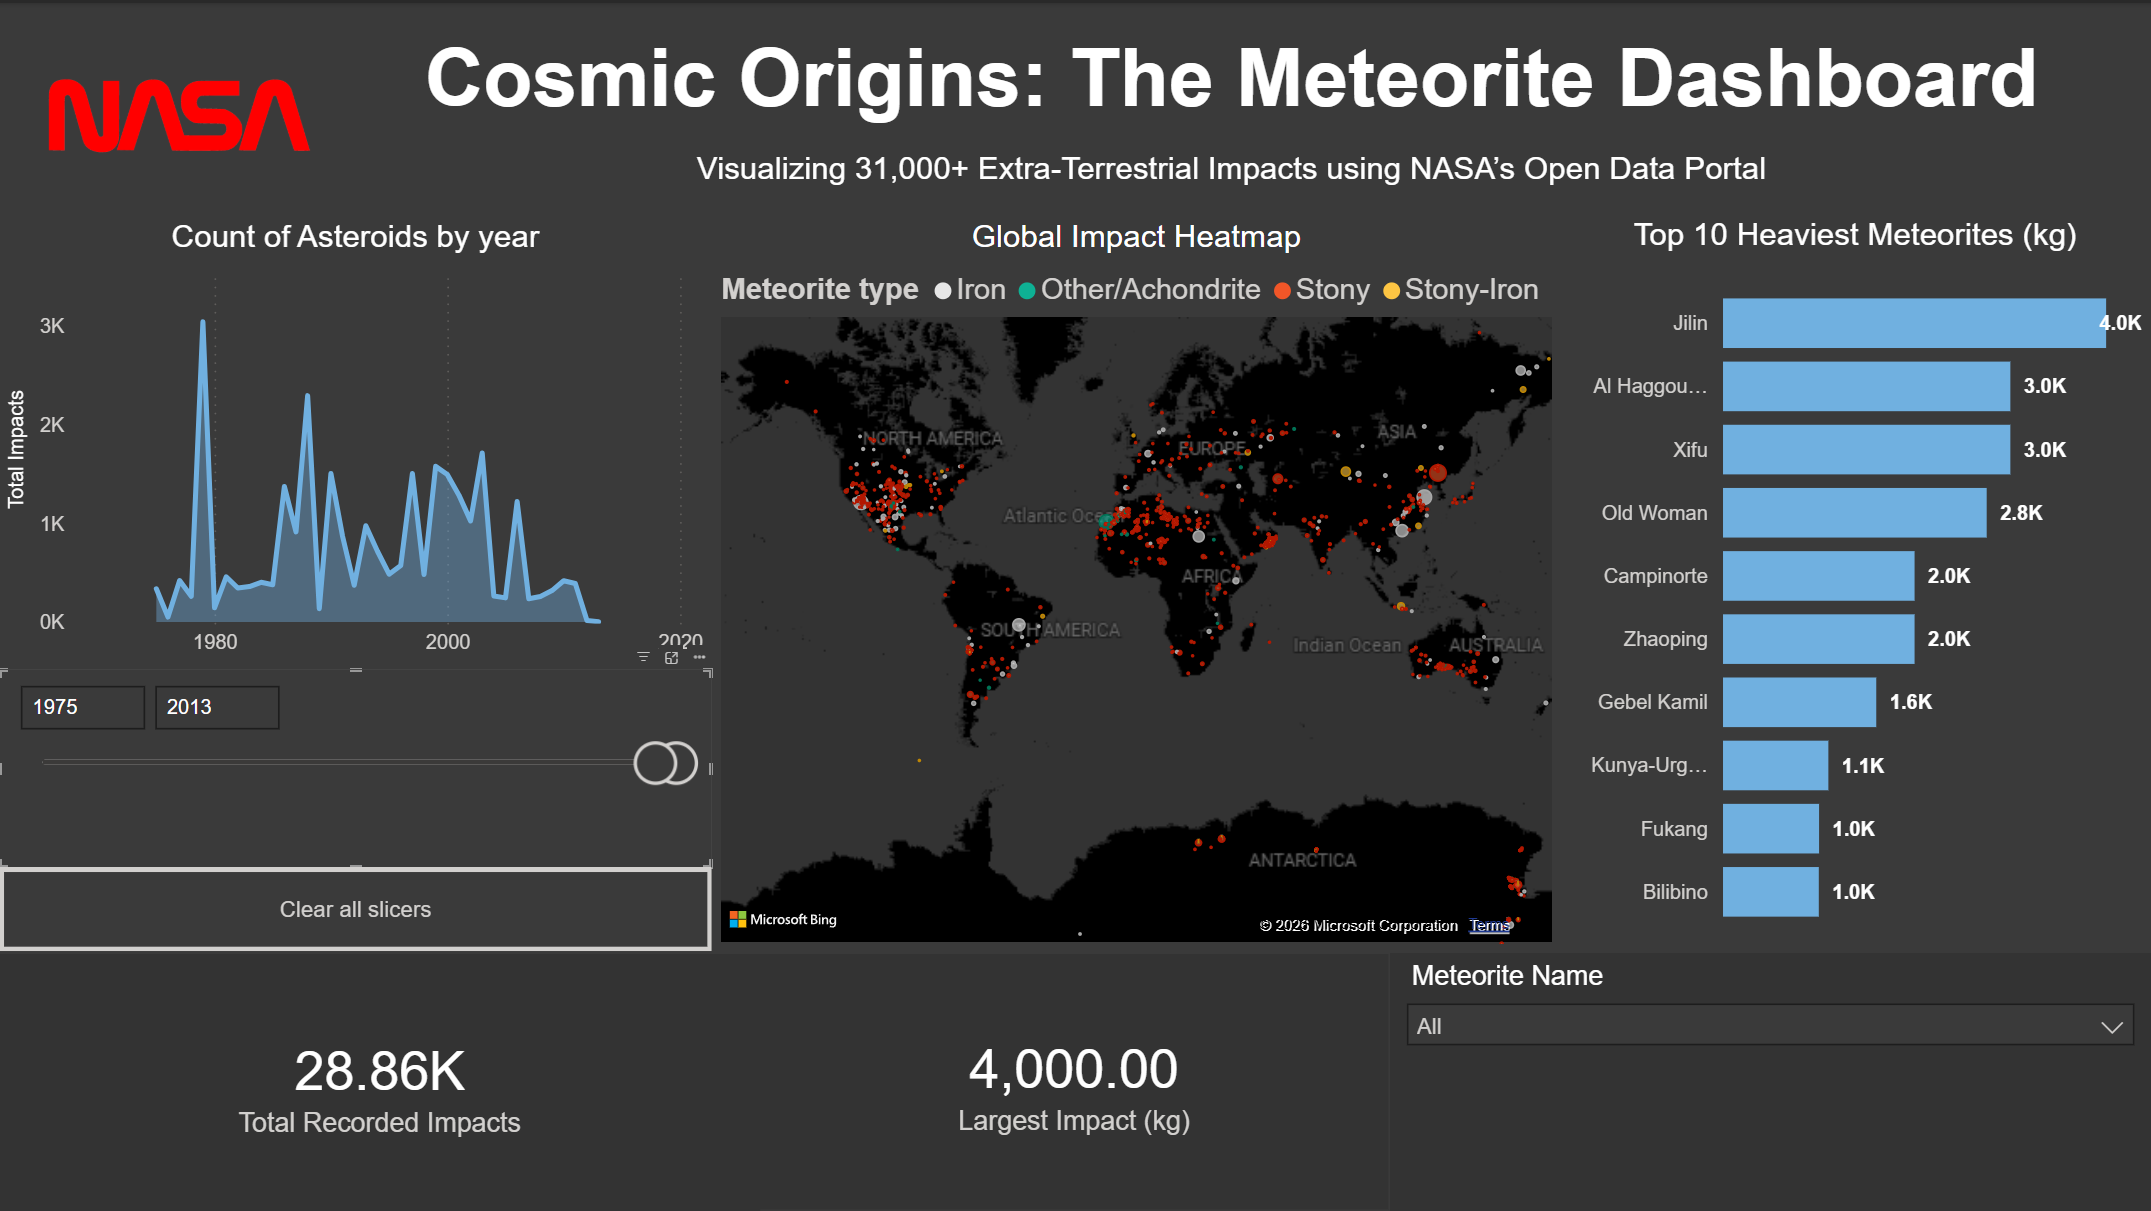

Layout of this report page (visuals, bound fields, positions):
{"tool":"powerbi","page":{"name":"Page 1","canvas":[1280,720],"ordinal":0},"visuals":[{"type":"map","title":"Global Impact Heatmap","fields":{"Y":["Meteorite_Landings.reclat"],"X":["Meteorite_Landings.reclong"],"Size":["Sum(Meteorite_Landings.mass (g))"],"Series":["Meteorite_Landings.Meteorite type"]},"box":[424.6,128,503.9,436.8],"z":0},{"type":"card","fields":{"Values":["Count(Meteorite_Landings.name)"]},"box":[0,565.8,453.1,154.4],"z":1000},{"type":"areaChart","title":"Count of Asteroids by year","fields":{"Category":["Meteorite_Landings.year"],"Y":["CountNonNull(Meteorite_Landings.name)"]},"box":[0,127.9,424.3,268.4],"z":2000},{"type":"slicer","title":"Year Slicer","fields":{"Values":["Meteorite_Landings.year"]},"box":[0,396.3,424.3,118.4],"z":3000},{"type":"actionButton","box":[0,514,424.5,50.4],"z":4000},{"type":"card","fields":{"Values":["Meteorite_Landings.Largest Impact (kg)"]},"box":[453.1,565.8,373.8,152.4],"z":5000},{"type":"textbox","box":[186.9,12.5,1093.1,115],"z":6000},{"type":"slicer","fields":{"Values":["Meteorite_Landings.name"]},"box":[827.5,565,452.5,154.4],"z":7000},{"type":"image","box":[28.6,7.7,158.3,119],"z":8000},{"type":"clusteredBarChart","title":"Top 10 Heaviest Meteorites (kg)","fields":{"Category":["Meteorite_Landings.name"],"Y":["Meteorite_Landings.Largest Impact (kg)"]},"box":[928.7,126.9,351.3,437.5],"z":9000}]}

Visuals, with their boxes in screenshot pixels (x1, y1, x2, y2), scaled from the page's 1280x720 canvas onto the 2151x1211 screenshot:
"Global Impact Heatmap" map: rect(714, 215, 1560, 950)
card - Count(Meteorite_Landings.name): rect(0, 952, 761, 1210)
"Count of Asteroids by year" areaChart: rect(0, 215, 713, 667)
"Year Slicer" slicer: rect(0, 667, 713, 866)
actionButton: rect(0, 865, 713, 949)
card - Meteorite_Landings.Largest Impact (kg): rect(761, 952, 1390, 1208)
textbox: rect(314, 21, 2150, 214)
slicer - Meteorite_Landings.name: rect(1391, 950, 2150, 1210)
image: rect(48, 13, 314, 213)
"Top 10 Heaviest Meteorites (kg)" clusteredBarChart: rect(1561, 213, 2150, 949)
